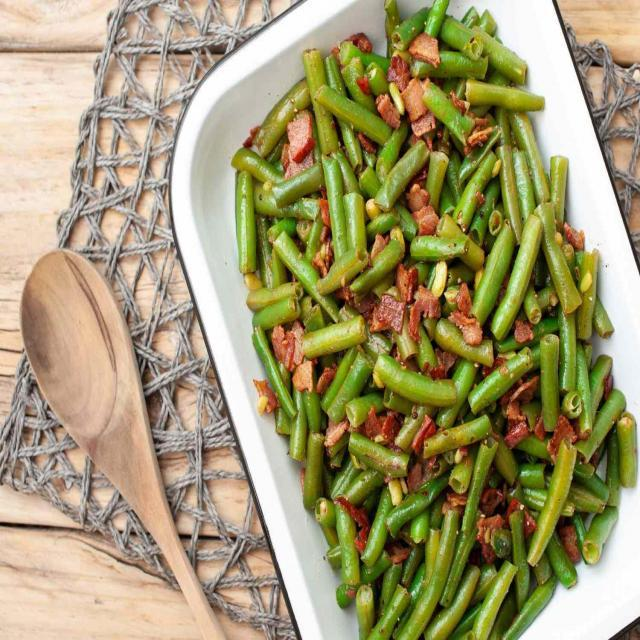Beans: (199, 0, 639, 639)
